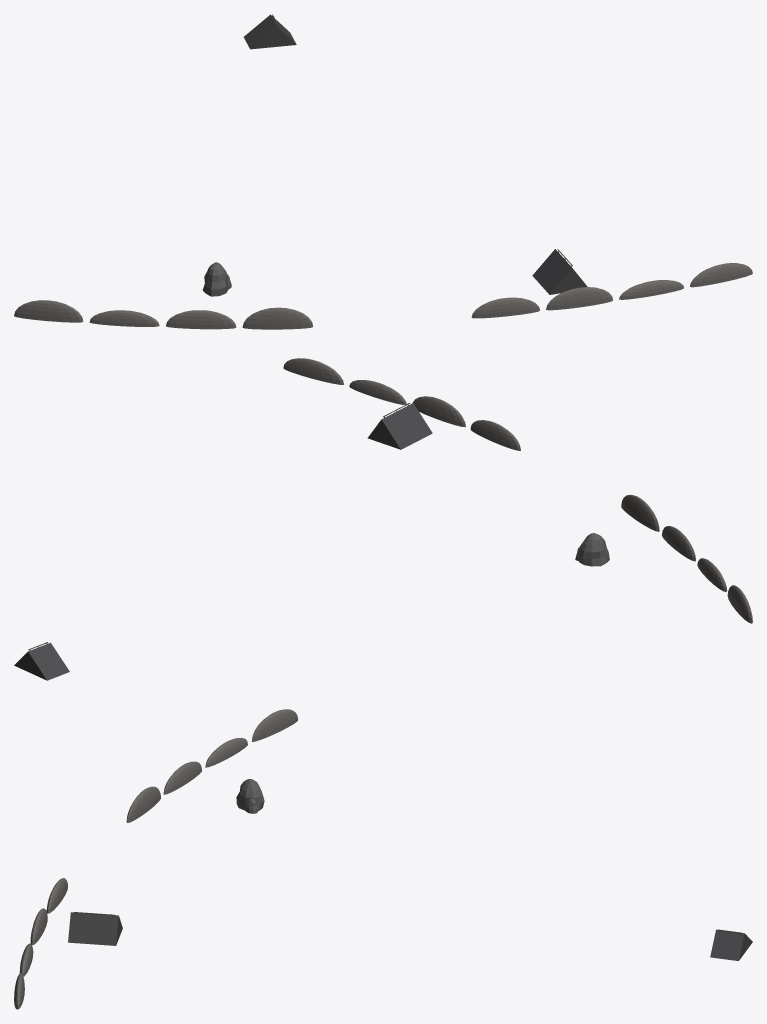
File: SM_City_MukhayyamAlNiran_5.fbx
3 views of the same model, one above another, from view 1: azimuth 30°, elevation 25°; view 2: azimuth 150°, elevation 25°; view 3: azimuth 270°, elevation 25° (orthographic). The views are drawn at different scales.
Parts seen in each view (by area): view 1: SM_City_MukhayyamAlNiran_5; view 2: SM_City_MukhayyamAlNiran_5; view 3: SM_City_MukhayyamAlNiran_5.
Part boxes in pixels (x1,y1,x2,y2): SM_City_MukhayyamAlNiran_5: (14,14,752,329); SM_City_MukhayyamAlNiran_5: (14,358,752,680); SM_City_MukhayyamAlNiran_5: (14,709,752,1009).
Size of the model in its own units: 8063 by 346 by 8678.
Materials: 4 (4 with a texture image).
